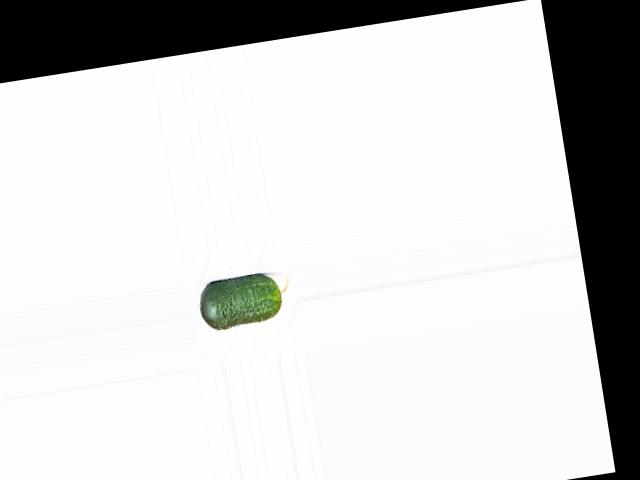cucumber: (196, 269, 294, 331)
